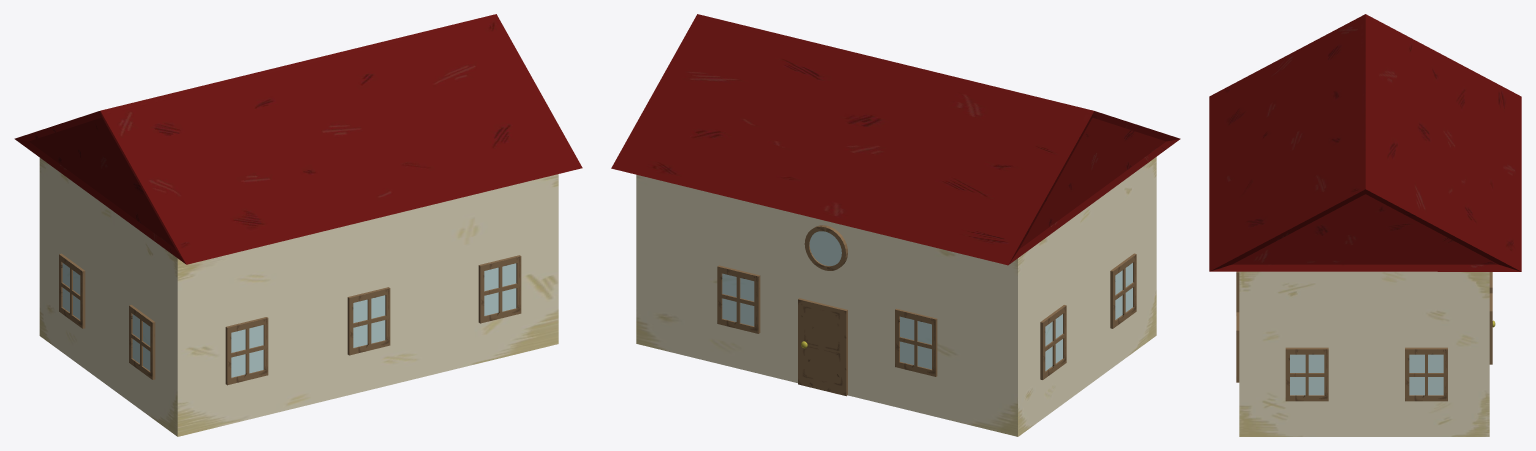
The model's file is maison 3.fbx.
The picture shows the model from 3 angles, left to right: view 1: azimuth 30°, elevation 25°; view 2: azimuth 150°, elevation 25°; view 3: azimuth 270°, elevation 25°; orthographic projection. The views are drawn at different scales.
Visible parts, largest first — view 1: base maison, toit, fenetre.001, fenetre.017, fenetre, fenetre.010, fenetre.018; view 2: base maison, toit, porte, fenetre.002, fenetre.003, fenetre.018, fenetre.010, Hulette; view 3: toit, base maison, fenetre.004, fenetre.019.
Part boxes in pixels (x1=…): base maison: x1=39, y1=158, x2=558, y2=436; toit: x1=14, y1=14, x2=582, y2=264; fenetre.001: x1=478, y1=255, x2=521, y2=323; fenetre.017: x1=347, y1=287, x2=390, y2=355; fenetre: x1=225, y1=317, x2=268, y2=385; fenetre.010: x1=59, y1=253, x2=85, y2=328; fenetre.018: x1=129, y1=305, x2=155, y2=379; base maison: x1=636, y1=157, x2=1156, y2=436; toit: x1=611, y1=14, x2=1180, y2=265; porte: x1=798, y1=298, x2=847, y2=396; fenetre.002: x1=717, y1=265, x2=760, y2=333; fenetre.003: x1=895, y1=308, x2=937, y2=376; fenetre.018: x1=1110, y1=253, x2=1136, y2=328; fenetre.010: x1=1040, y1=305, x2=1066, y2=379; Hulette: x1=804, y1=225, x2=847, y2=270; toit: x1=1209, y1=14, x2=1521, y2=271; base maison: x1=1239, y1=271, x2=1489, y2=436; fenetre.004: x1=1285, y1=347, x2=1328, y2=401; fenetre.019: x1=1405, y1=347, x2=1447, y2=401.
Bounding box in the file's own units: 896 × 599 × 675.
Materials: 5 (3 with a texture image).
